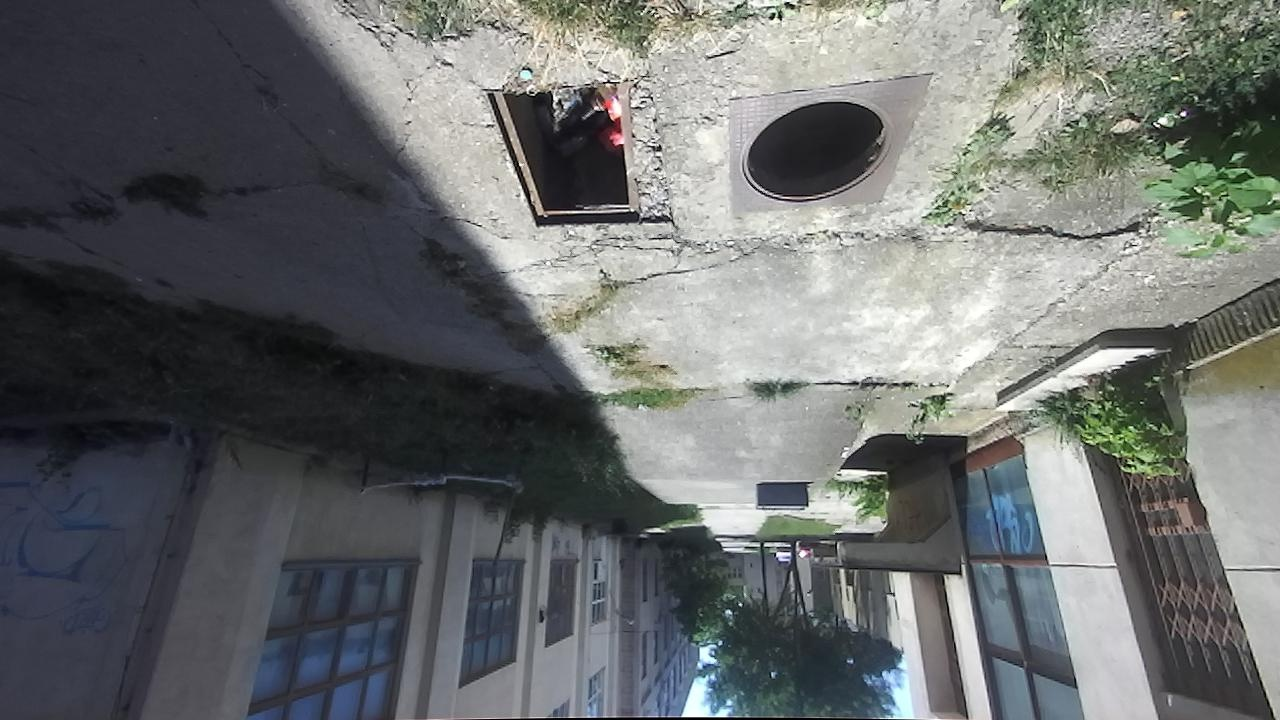drain: (475, 82, 645, 231), (732, 96, 899, 208)
